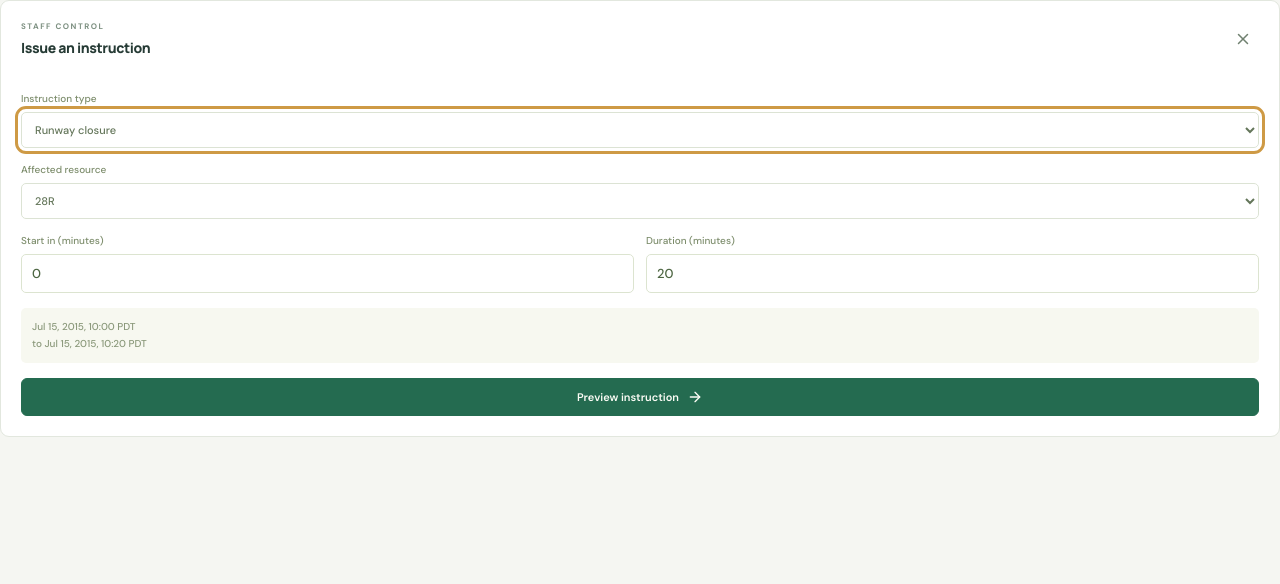
Test case: requires a fresh preview after editing a draft
Click the button "Preview instruction" at (640, 397), box [21,378,1259,416]
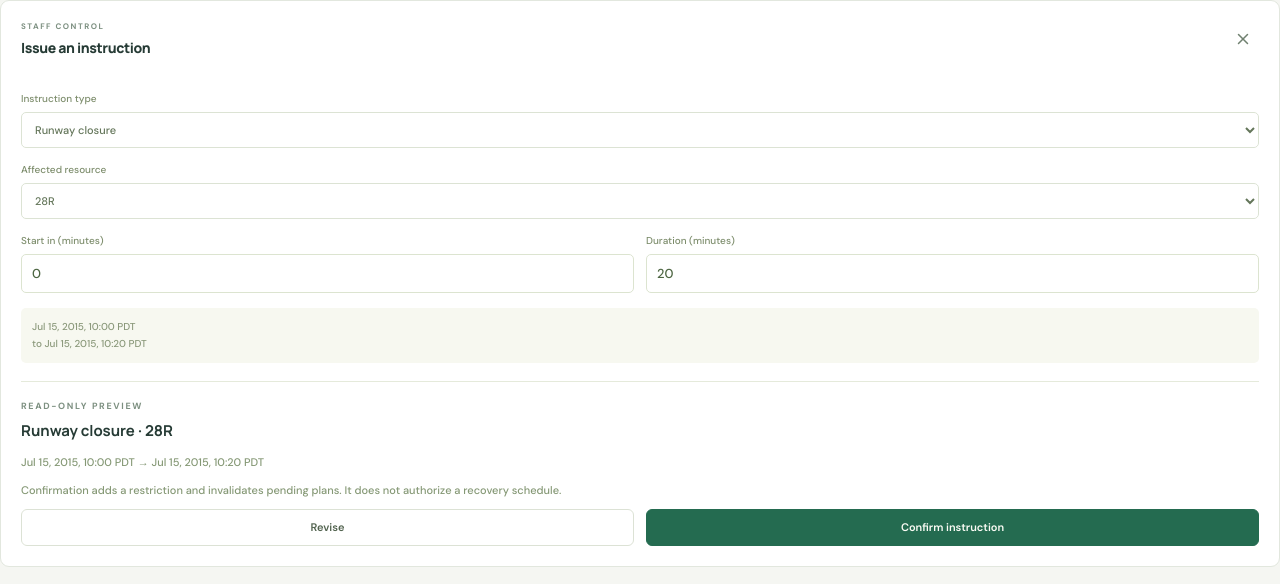
Select "28L" in the dropdown labelled "Affected resource" at (640, 201), box [21,183,1259,219]
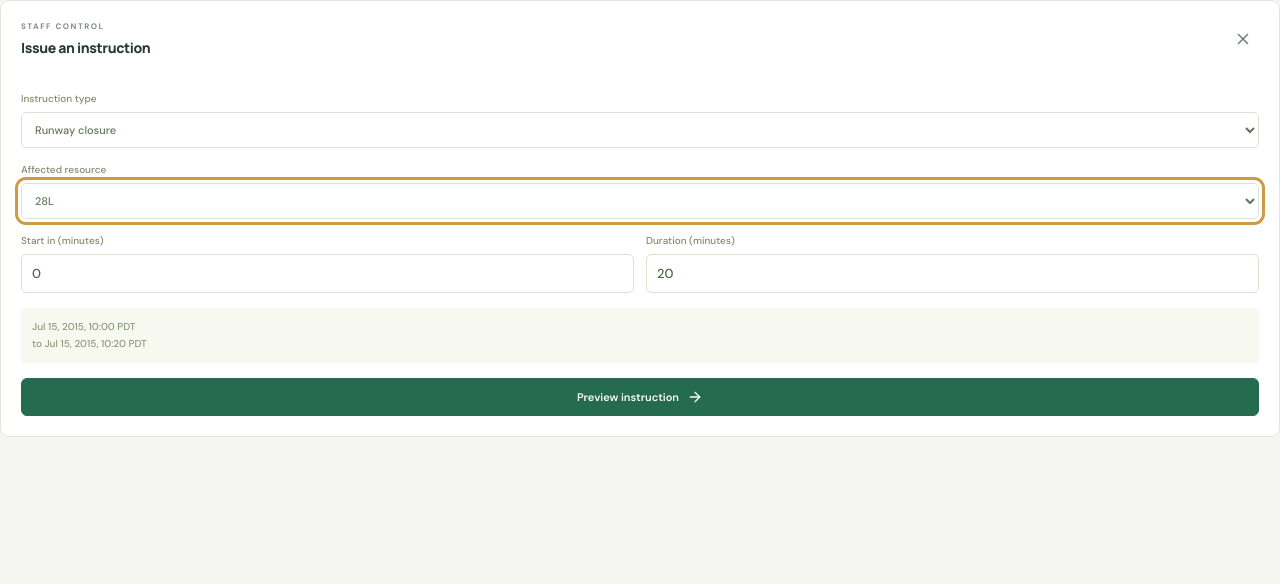
Now the button "Confirm instruction" is gone
